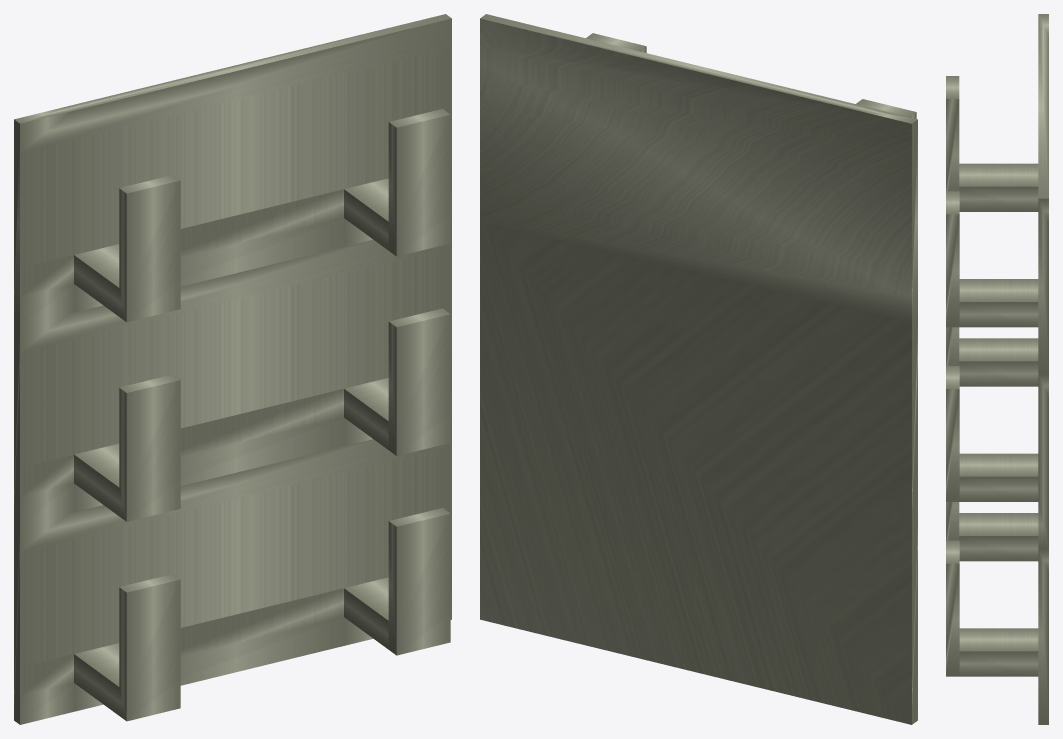
The model's file is shelfBody.gltf.
3 views of the same model, side by side, from view 1: azimuth 30°, elevation 25°; view 2: azimuth 150°, elevation 25°; view 3: azimuth 270°, elevation 25° (orthographic). The views are drawn at different scales.
Parts seen in each view (by area): view 1: standert; view 2: standert; view 3: standert.
Part boxes in pixels (x1=…): standert: x1=14, y1=14, x2=451, y2=724; standert: x1=480, y1=14, x2=917, y2=724; standert: x1=946, y1=14, x2=1048, y2=724.
Size of the model in its own units: 1.23 by 1.64 by 0.2911.
Materials: 1 (1 with a texture image).
